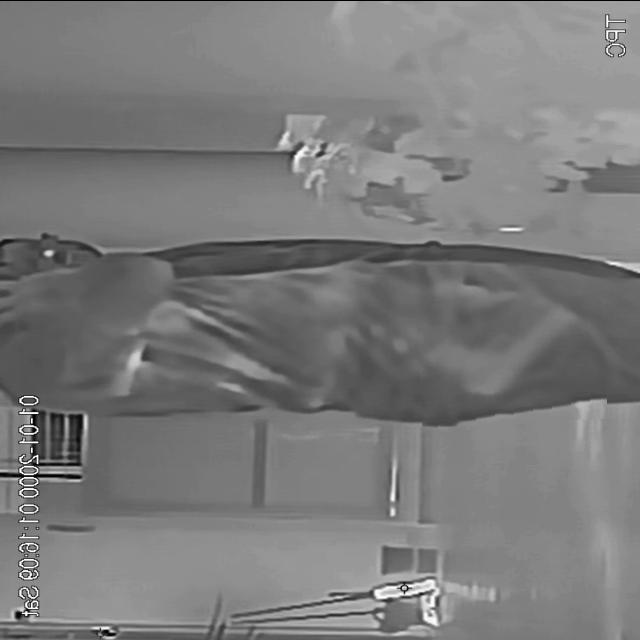Weapon: (418, 297, 606, 425)
